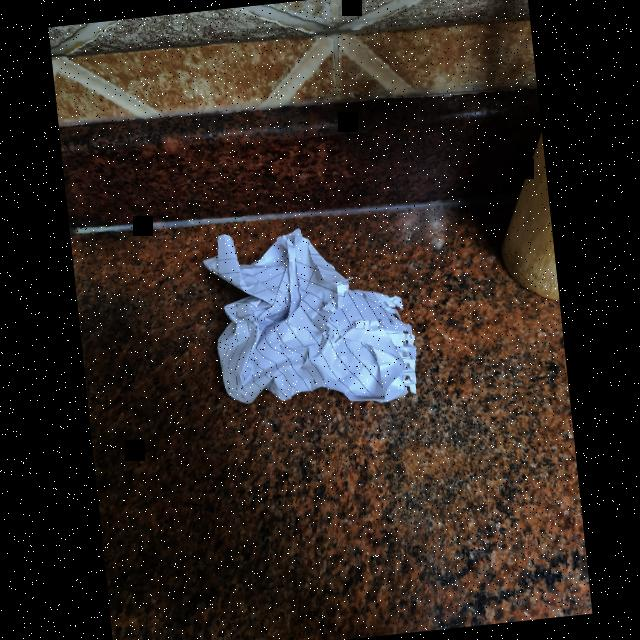scrap_paper: (200, 210, 432, 415)
